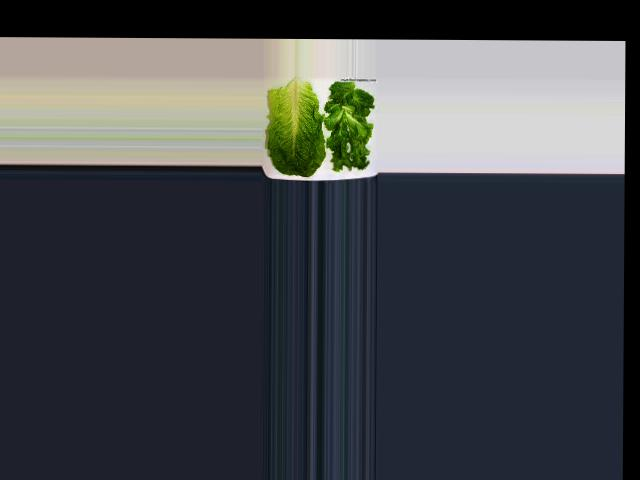lettuce: (326, 84, 379, 171)
